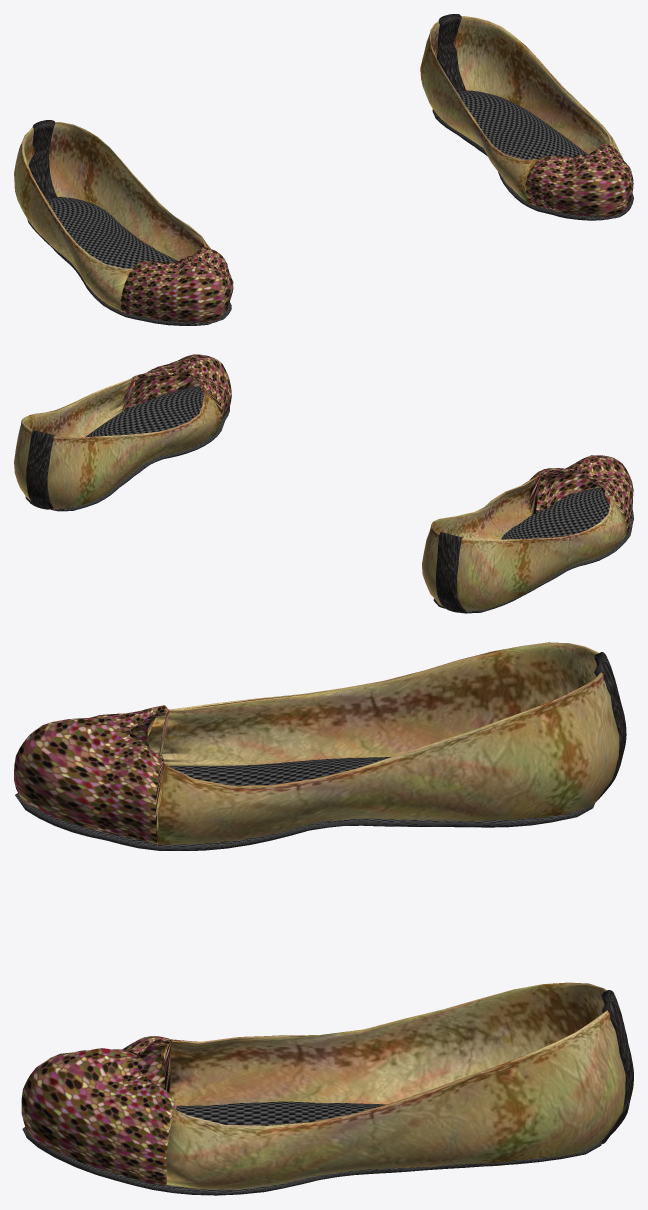
File: elvs-flatshoe-plain1.glb
The picture shows the model from 3 angles, top to bottom: view 1: azimuth 30°, elevation 25°; view 2: azimuth 150°, elevation 25°; view 3: azimuth 270°, elevation 25°; orthographic projection. The views are drawn at different scales.
Parts seen in each view (by area): view 1: Human.elvs_flatshoe_plain1; view 2: Human.elvs_flatshoe_plain1; view 3: Human.elvs_flatshoe_plain1.
Boxes of the visible parts, box(x1,y1,x2,y2) form: Human.elvs_flatshoe_plain1: box(14, 14, 633, 325); Human.elvs_flatshoe_plain1: box(14, 354, 633, 613); Human.elvs_flatshoe_plain1: box(14, 642, 633, 1195).
Bounding box in the file's own units: 0.4392 × 0.0772 × 0.2581.
1 material, 1 textured.
